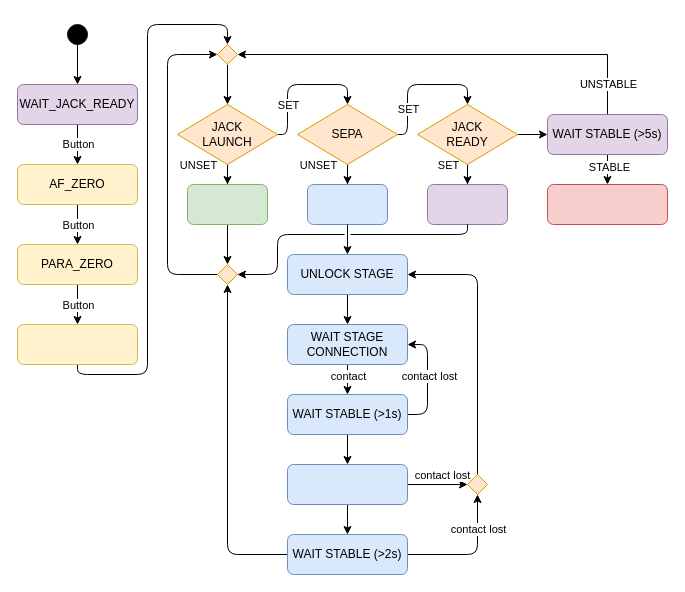
This 685x592 diagram has some shape labels left out. Here are the shapes that lost their labels. From the top down, the box of each, then its label:
(186, 184, 268, 224): LED GREEN
(306, 184, 388, 224): LED BLUE
(426, 184, 508, 224): LED MAGENTA
(546, 184, 668, 224): GO FOR LAUNCH
(16, 324, 138, 364): SEPA_ZERO
(286, 464, 408, 504): LOCK STAGE
